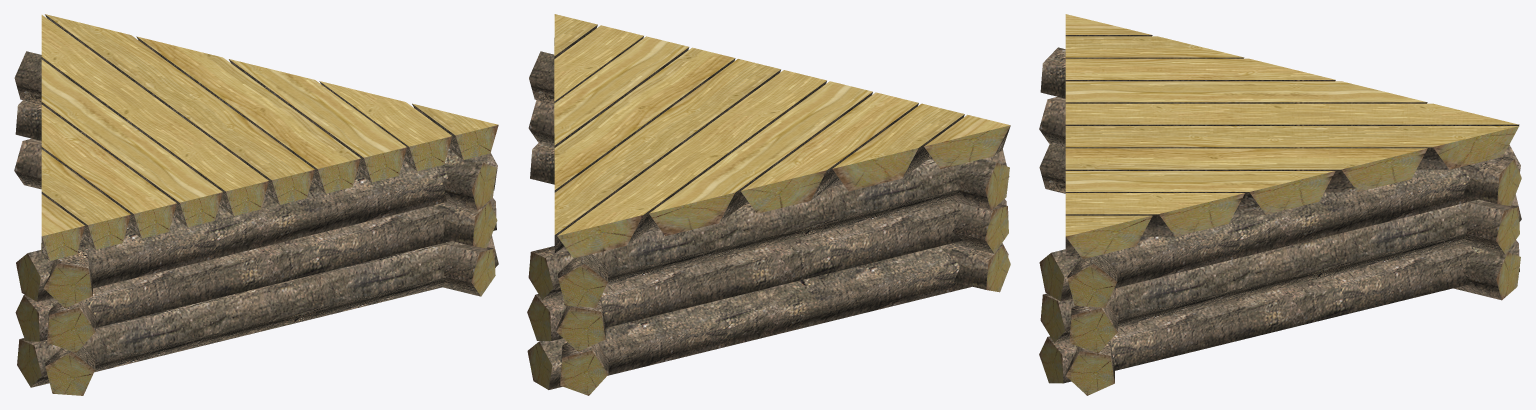
File: construction_wood_foundation_triangle_mesh.fbx
3 views of the same model, side by side, from view 1: azimuth 30°, elevation 25°; view 2: azimuth 150°, elevation 25°; view 3: azimuth 270°, elevation 25° (orthographic).
Visible parts, largest first — view 1: construction_wood_foundation_triangle_mesh; view 2: construction_wood_foundation_triangle_mesh; view 3: construction_wood_foundation_triangle_mesh.
Boxes of the visible parts, x1=… form: construction_wood_foundation_triangle_mesh: x1=14, y1=14, x2=498, y2=395; construction_wood_foundation_triangle_mesh: x1=527, y1=14, x2=1010, y2=395; construction_wood_foundation_triangle_mesh: x1=1039, y1=14, x2=1521, y2=395.
Bounding box in the file's own units: 300 × 100 × 275.
